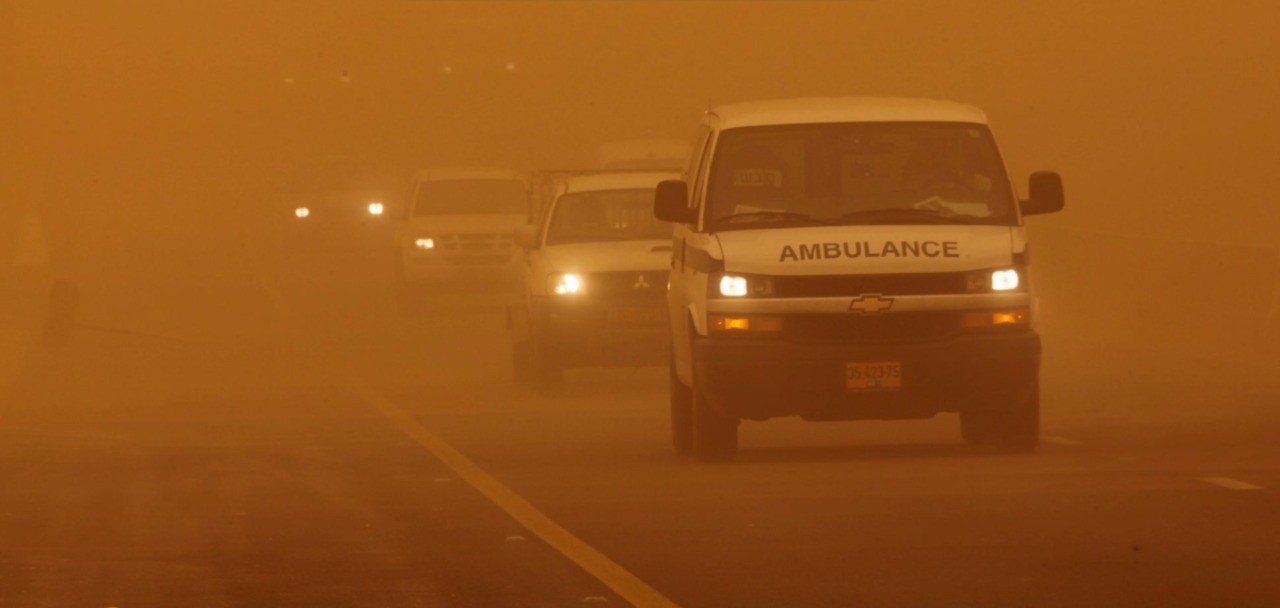car: (654, 99, 1063, 457), (507, 167, 688, 394), (397, 169, 543, 301), (276, 152, 401, 267)
